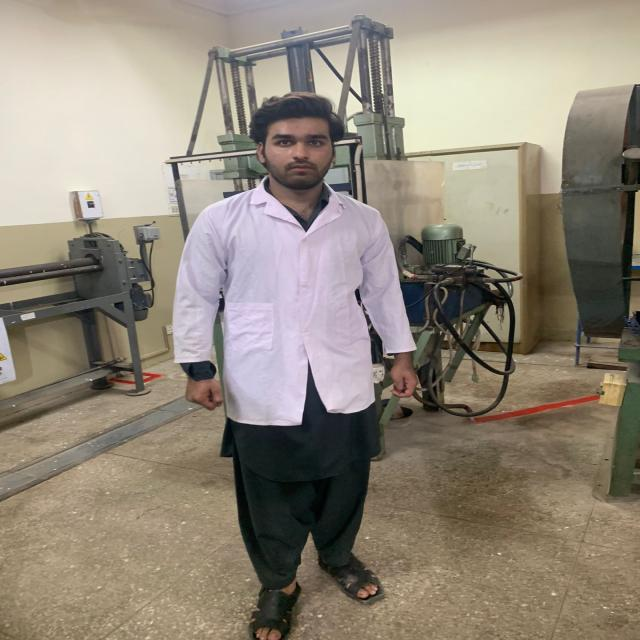labcoat: (167, 175, 423, 426)
